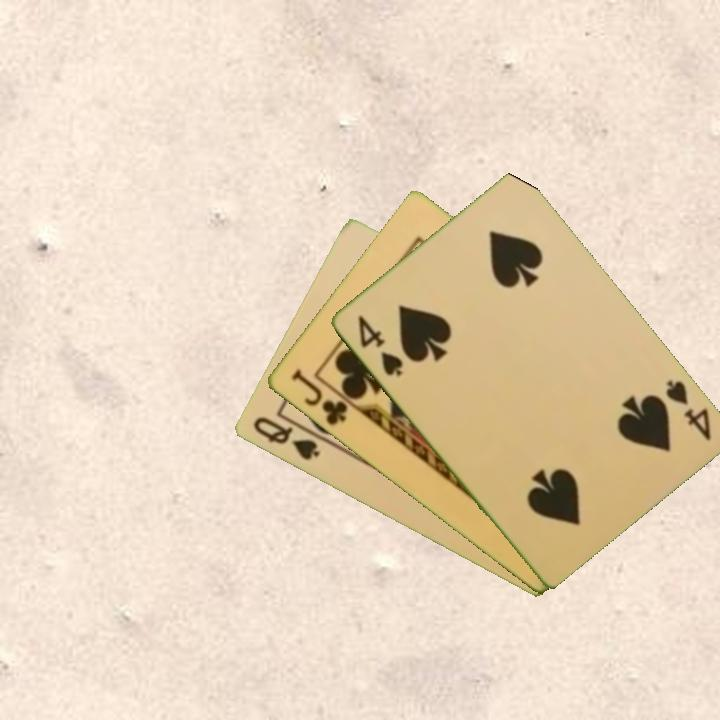4s: (353, 312, 406, 380), (661, 376, 714, 444)
Jc: (287, 365, 350, 429)
Qs: (249, 413, 322, 464)
